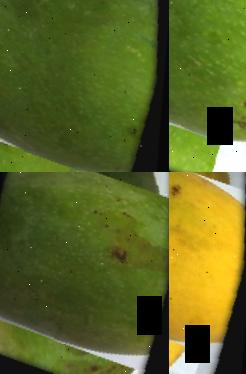Ripe: (169, 172, 246, 374)
Unripe: (0, 172, 169, 374), (0, 0, 169, 172), (169, 0, 246, 172)
